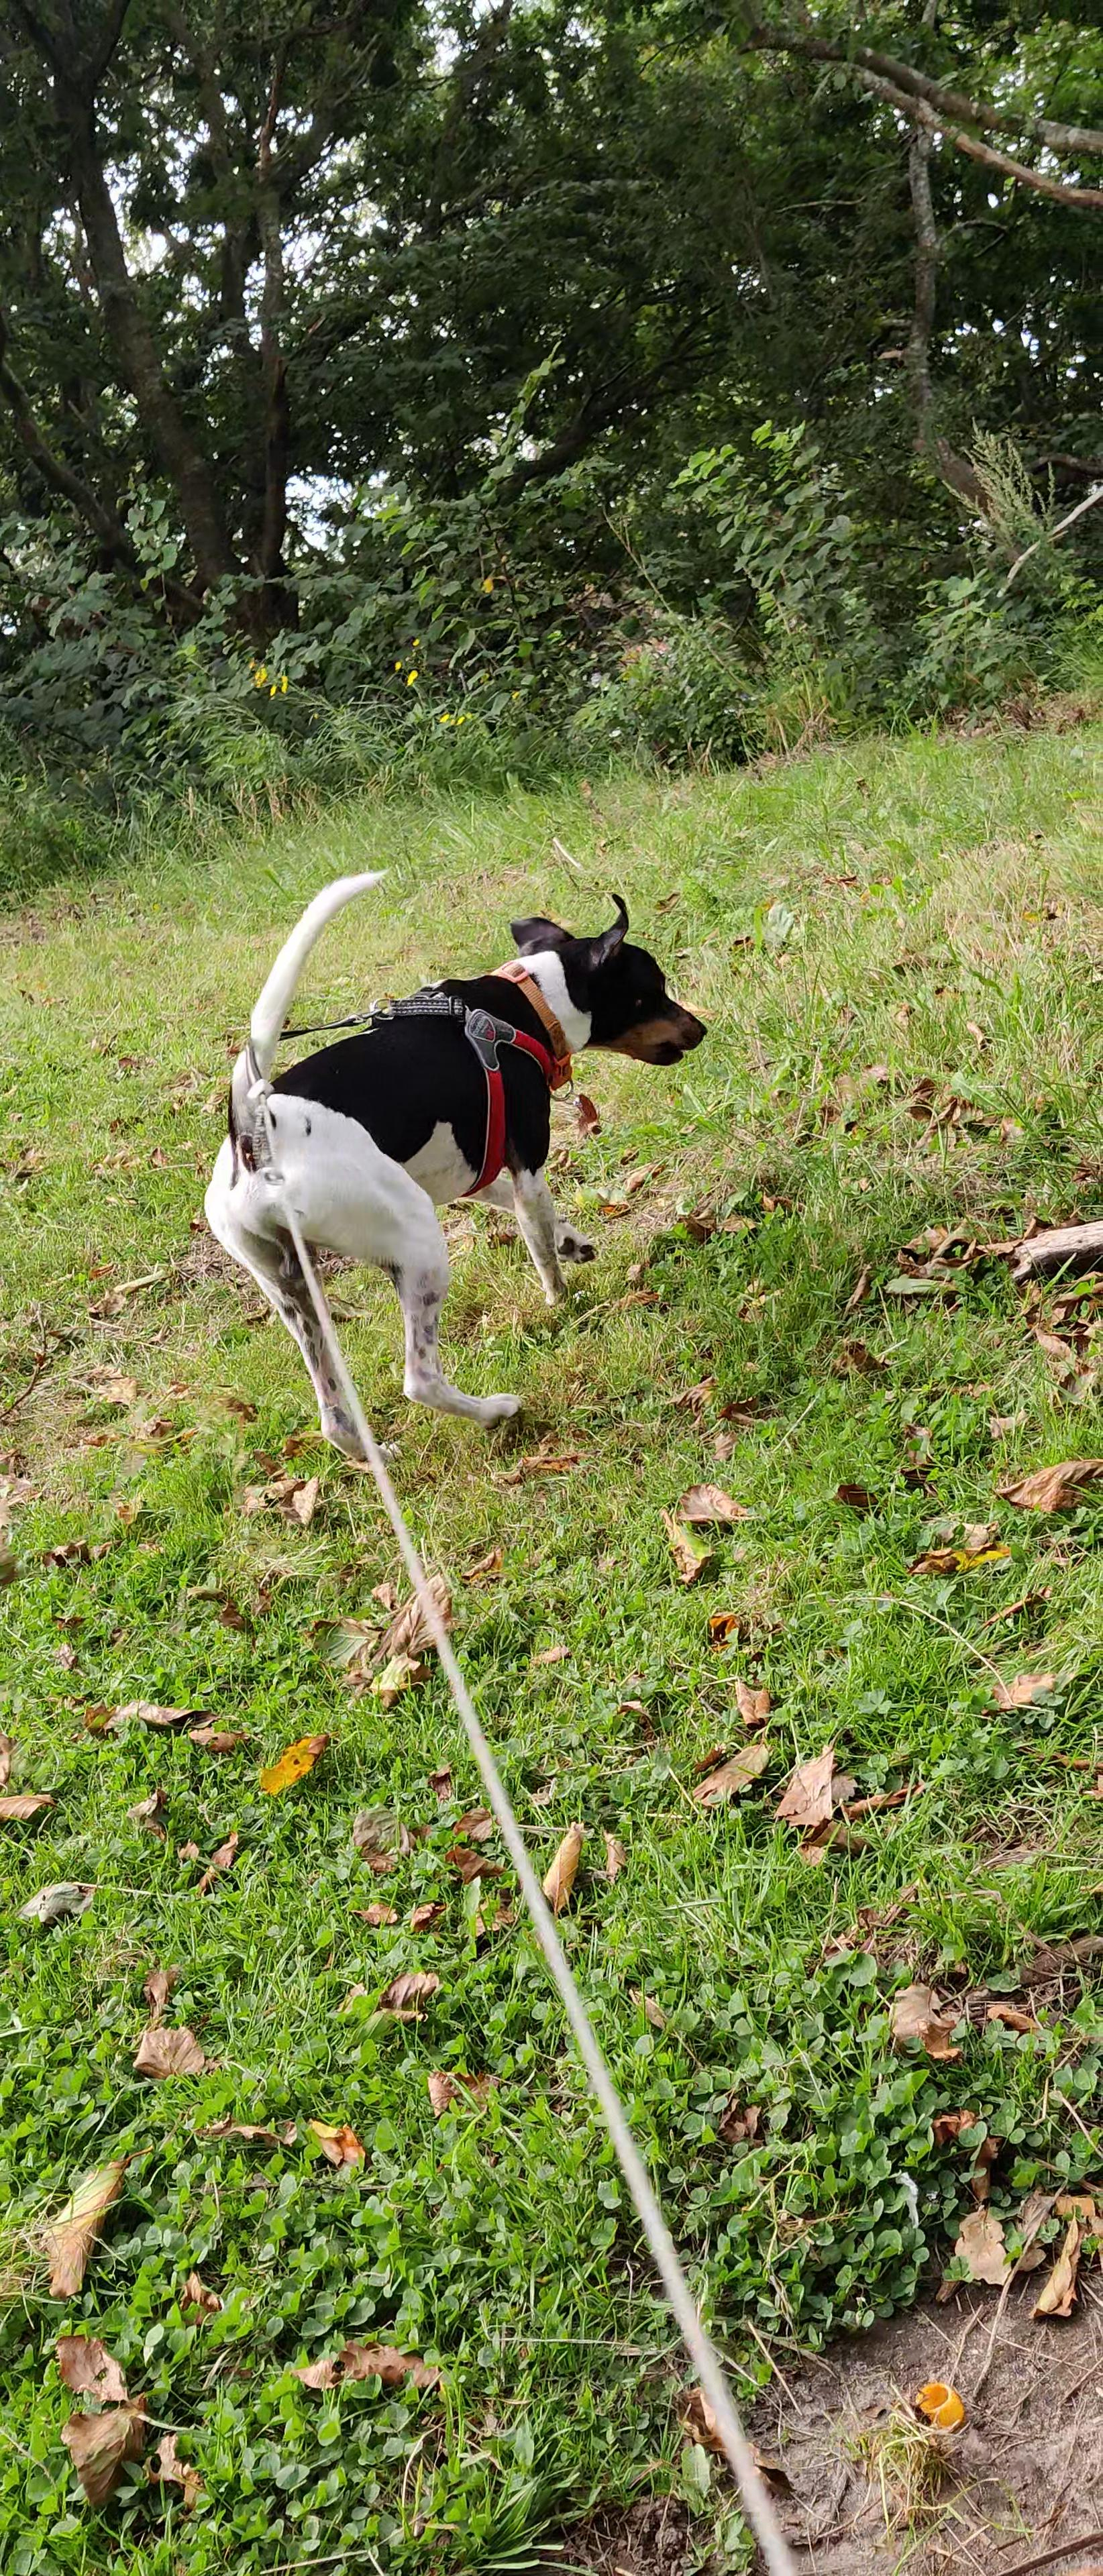Dog: (186, 841, 713, 1485)
